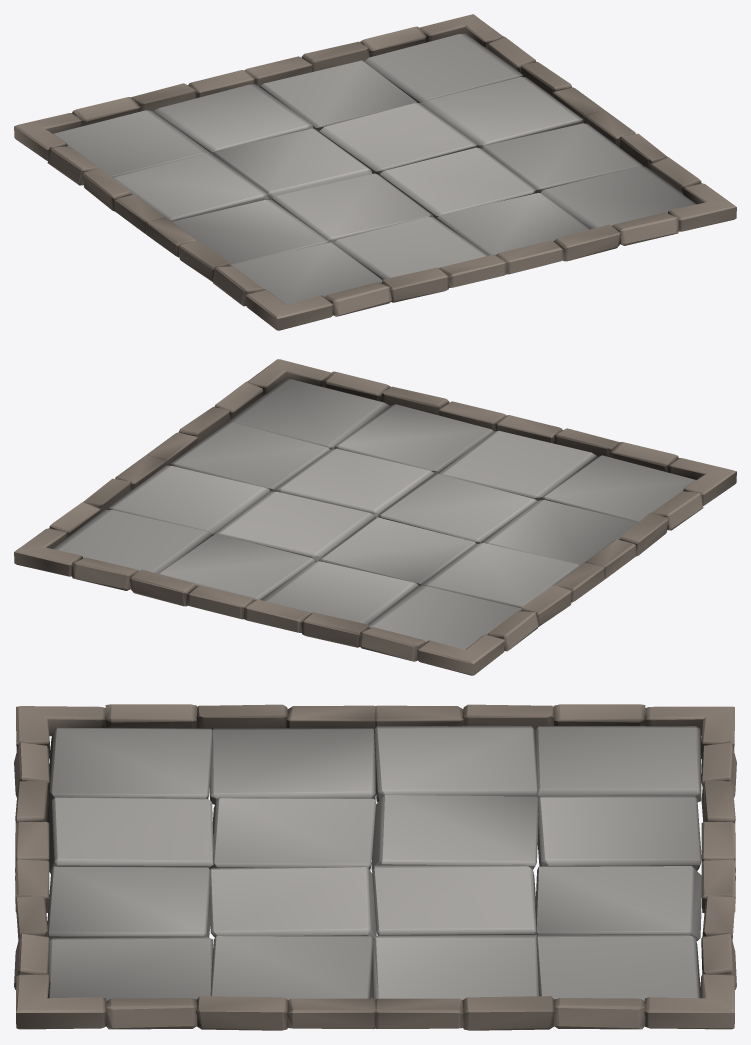
The model's file is floor_tiles_frame.FBX.
3 renders of one model, top to bottom at view 1: azimuth 30°, elevation 25°; view 2: azimuth 150°, elevation 25°; view 3: azimuth 270°, elevation 25°, orthographic. The views are drawn at different scales.
Visible parts, largest first — view 1: floor_tiles_frame; view 2: floor_tiles_frame; view 3: floor_tiles_frame.
Part boxes in pixels (<box>): floor_tiles_frame: <box>14,14,736,330</box>; floor_tiles_frame: <box>14,359,736,675</box>; floor_tiles_frame: <box>14,704,736,1030</box>.
Bounding box in the file's own units: 4.11 × 0.1567 × 4.08.
